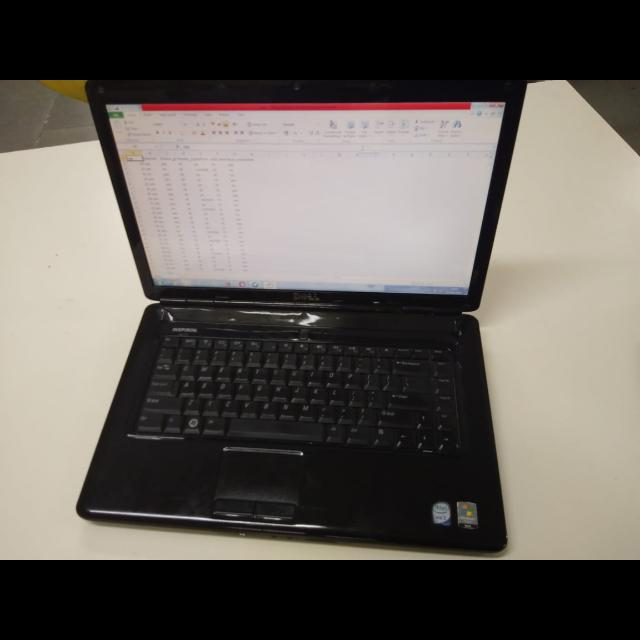Laptop: (74, 81, 542, 557)
